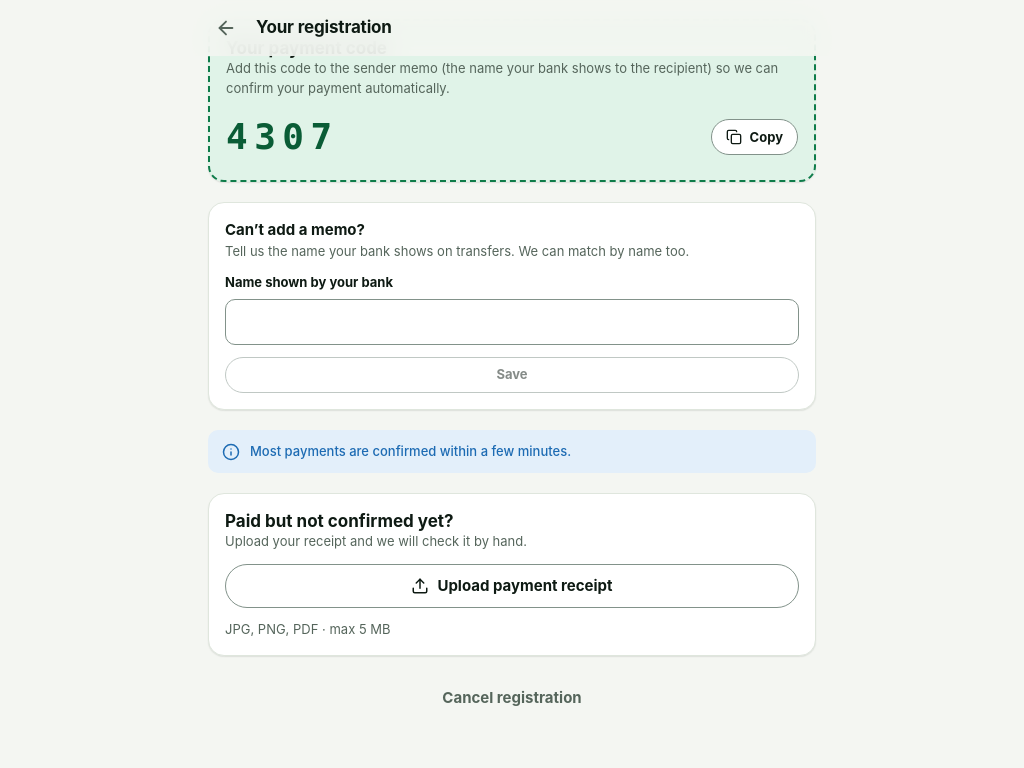
Test: the cancellation cutoff › shows the localized error if the server still refuses
The image size is (1024, 768).
(page scrolled)
What coordinates should you click on to do the following:
click the button "Cancel registration"
I would click on:
 (512, 698)
Its box is [208,676,816,720].
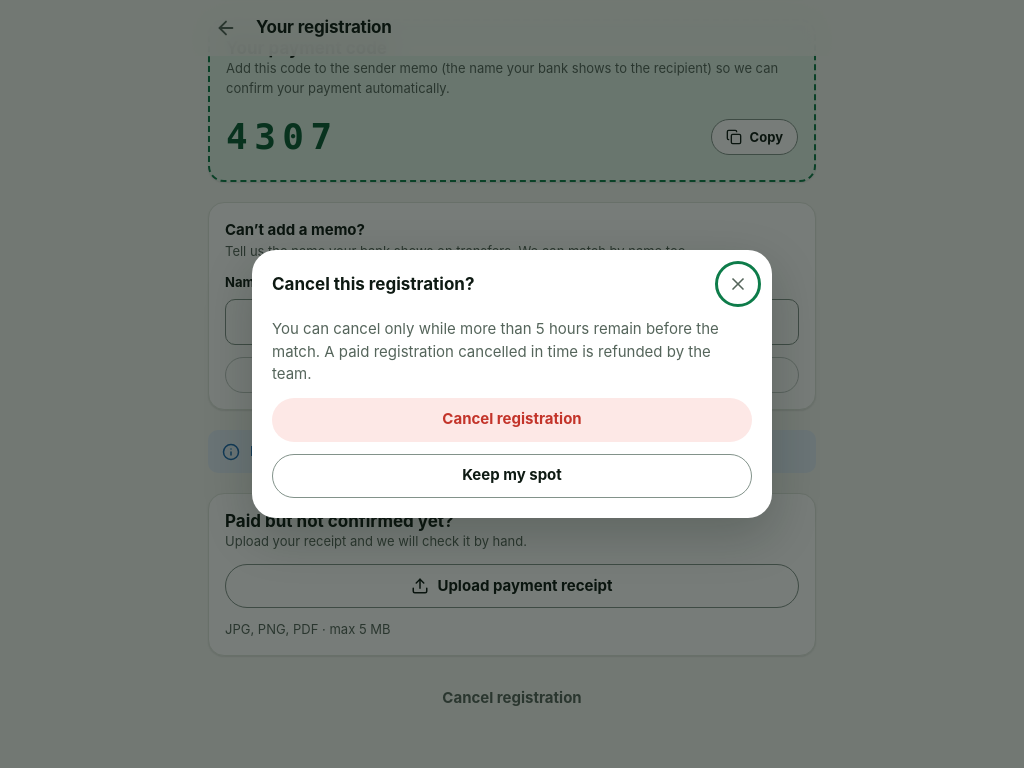
What coordinates should you click on to do the following:
click the button "Cancel registration" below "Cancel this registration?"
I would click on:
 (512, 420)
Its box is [272,398,752,442].
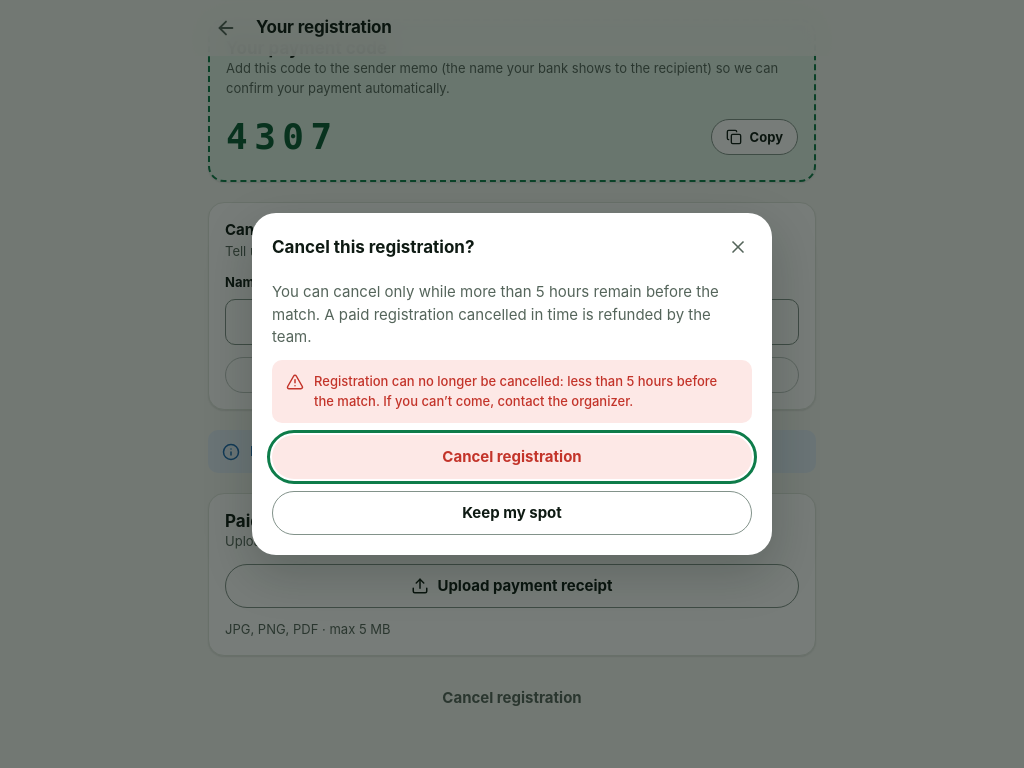
Expected: the text "Registration can no longer be cancelled: less than 5 hours before the match. If you can’t come, contact the organizer." is shown, [314,373,717,409]
